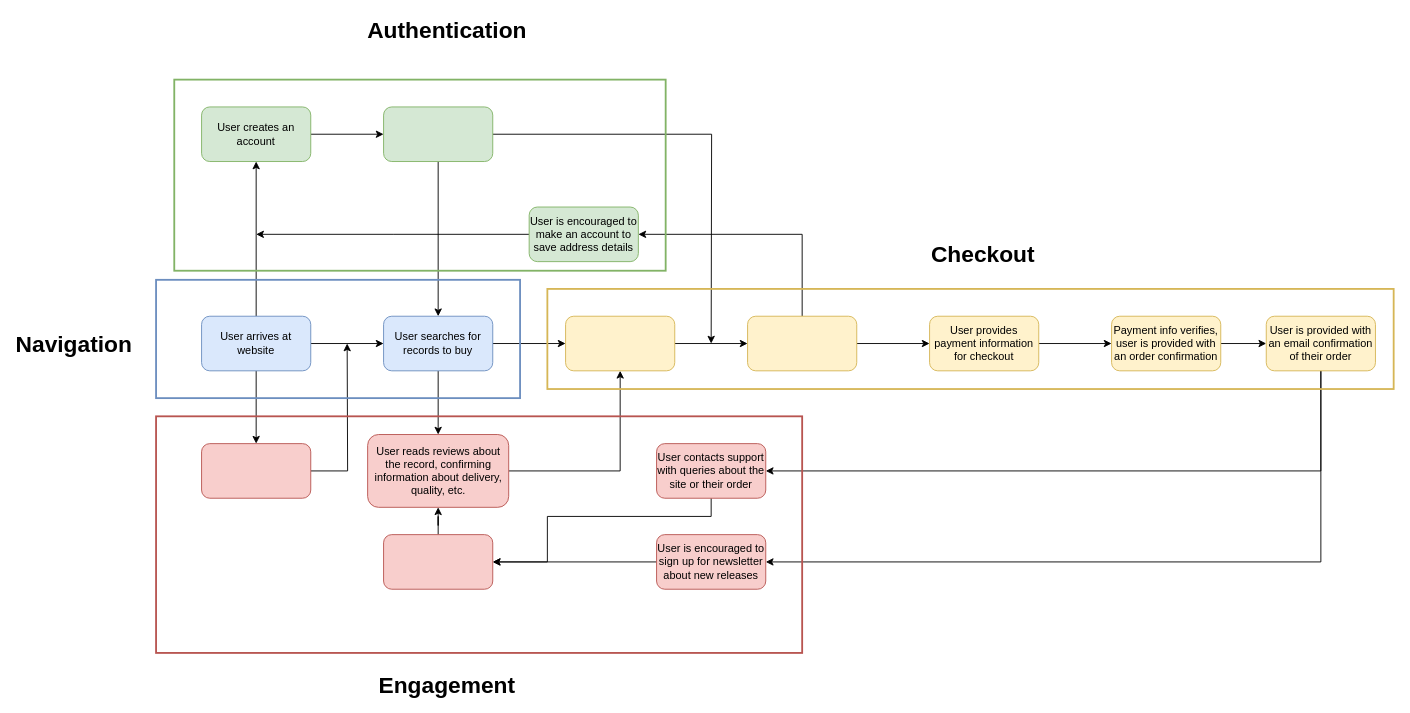
This 1410x713 diagram has some shape labels left out. The centre of each missing label's shape, as x and y in pixels:
"User adds records to bag for checkout" belongs at point (620, 343).
"User can create a review on the record for their order" belongs at point (438, 561).
"User fills in details for checkout/details are populated from account info" belongs at point (802, 343).
"User reads about reasons to use the site from the about page" belongs at point (256, 470).
"User verifies and logs into their account" belongs at point (438, 134).
